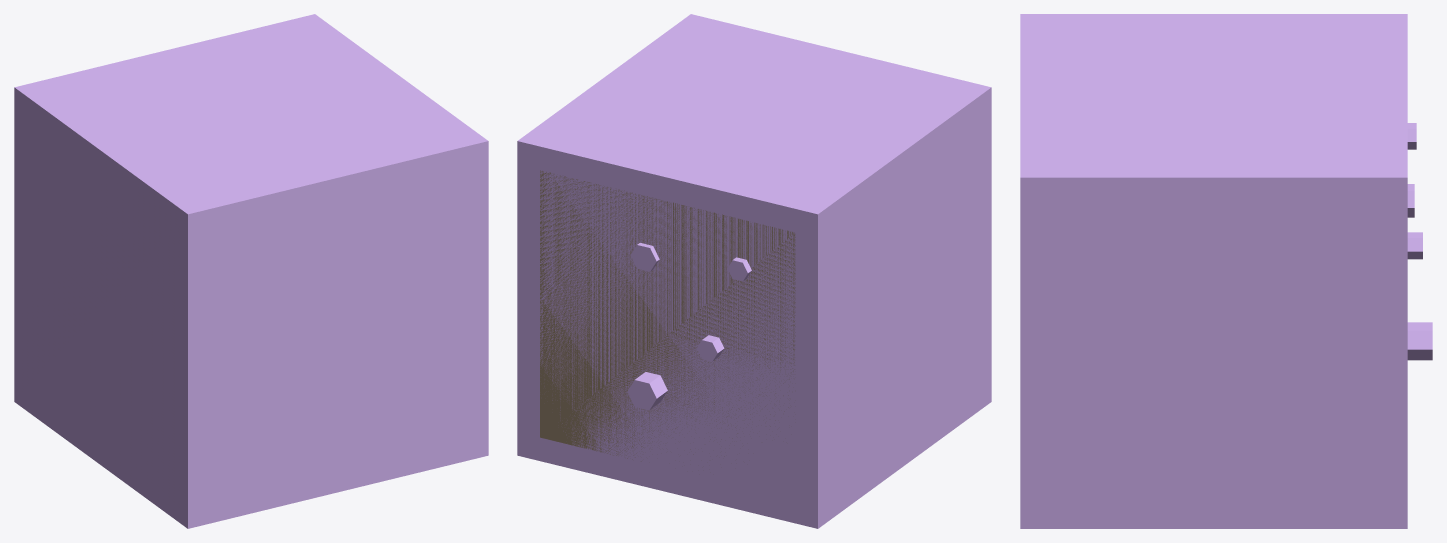
The model's file is 51_lilac_coral.glb.
3 renders of one model, left to right at view 1: azimuth 30°, elevation 25°; view 2: azimuth 150°, elevation 25°; view 3: azimuth 270°, elevation 25°, orthographic. The views are drawn at different scales.
Visible parts, largest first — view 1: Core; view 2: Core, Soil, Coral_7, Coral_2; view 3: Core, Coral_7.
Boxes of the visible parts, x1,y1,x2,y2 form: Core: [14, 14, 488, 528]; Core: [517, 14, 991, 528]; Soil: [540, 170, 795, 461]; Coral_7: [627, 372, 667, 410]; Coral_2: [630, 243, 659, 271]; Core: [1020, 14, 1407, 528]; Coral_7: [1407, 322, 1432, 360].
Size of the model in its own units: 1 by 1 by 1.06.
